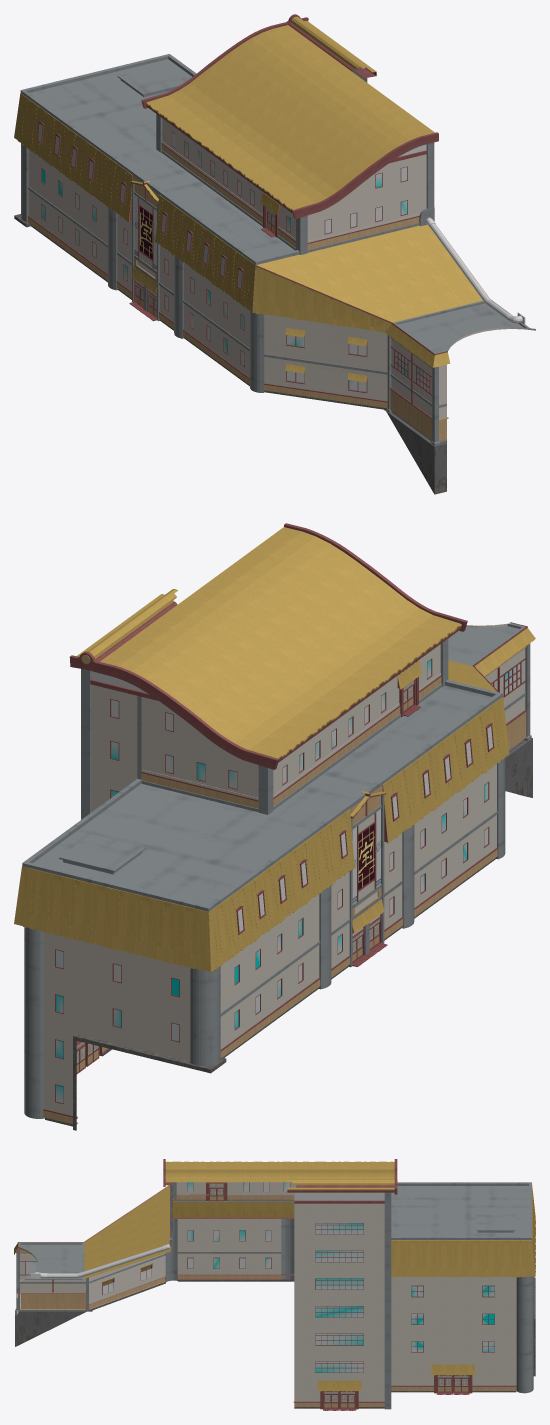
Rendered from SM_ENV_KNVLLG_AreaF_Building_A_Part02.fbx.
The picture shows the model from 3 angles, top to bottom: view 1: azimuth 30°, elevation 25°; view 2: azimuth 150°, elevation 25°; view 3: azimuth 270°, elevation 25°; orthographic projection. The views are drawn at different scales.
Visible parts, largest first — view 1: SM_ENV_KNVLLG_AreaF_Building_A_Part02.mo; view 2: SM_ENV_KNVLLG_AreaF_Building_A_Part02.mo; view 3: SM_ENV_KNVLLG_AreaF_Building_A_Part02.mo.
Boxes of the visible parts, bbox=[...] form: SM_ENV_KNVLLG_AreaF_Building_A_Part02.mo: bbox=[14, 14, 535, 494]; SM_ENV_KNVLLG_AreaF_Building_A_Part02.mo: bbox=[14, 523, 535, 1130]; SM_ENV_KNVLLG_AreaF_Building_A_Part02.mo: bbox=[14, 1159, 535, 1410].
Bounding box in the file's own units: 7263 × 10063 × 20960.
